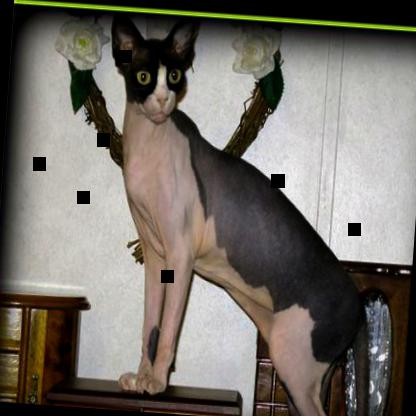cat: (85, 12, 396, 415)
